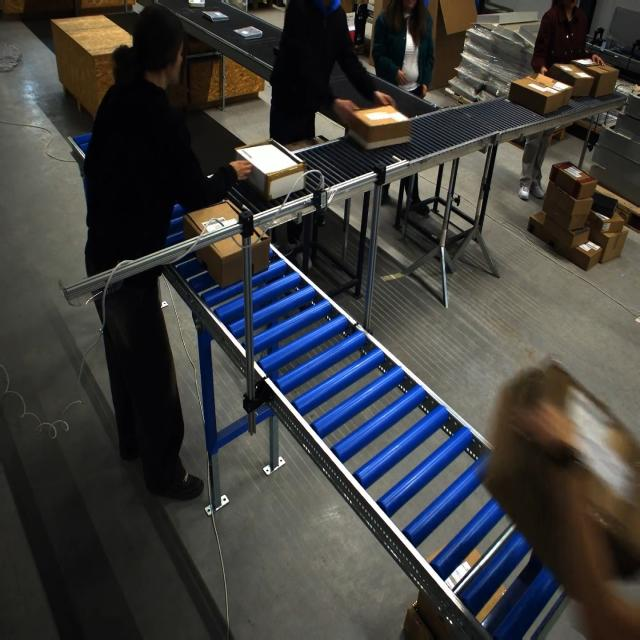box: (183, 200, 270, 286), (233, 139, 304, 202), (347, 105, 407, 149)
product: (201, 216, 238, 234), (233, 26, 262, 39), (202, 10, 229, 22)
